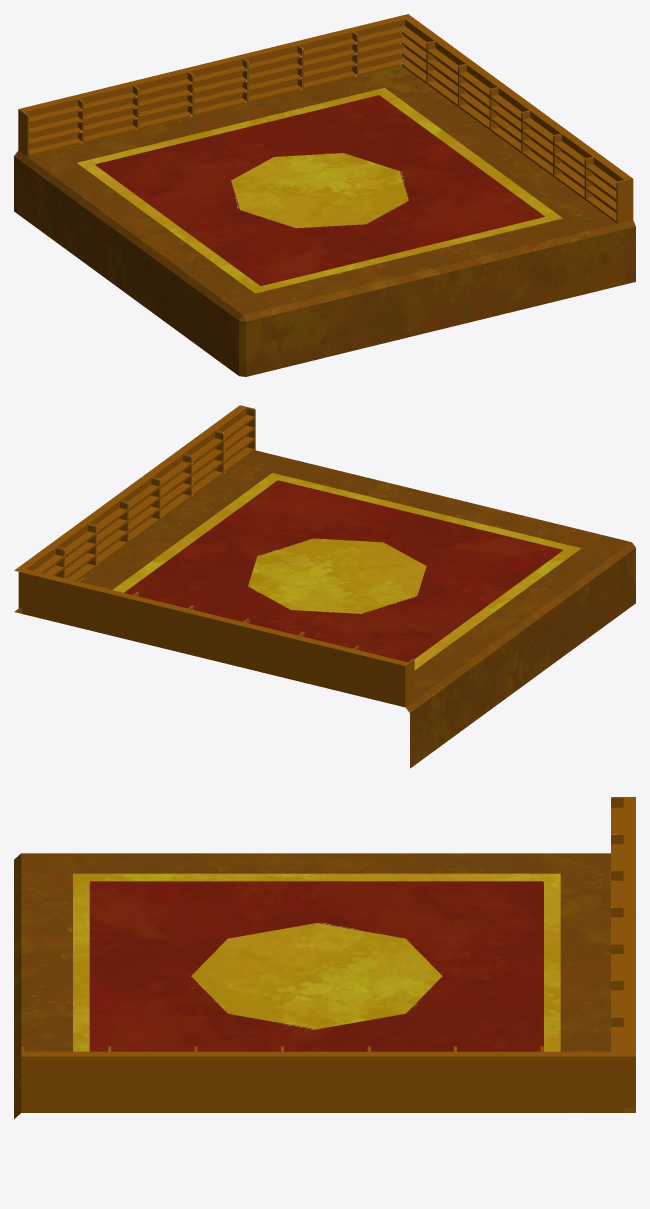
File: lvl_5-cnk_2.obj
The picture shows the model from 3 angles, top to bottom: view 1: azimuth 30°, elevation 25°; view 2: azimuth 150°, elevation 25°; view 3: azimuth 270°, elevation 25°; orthographic projection. The views are drawn at different scales.
Visible parts, largest first — view 1: Cube.065, Plane.007, Cube.069, Cube.072; view 2: Plane.007, Cube.065, Cube.069, Cube.072; view 3: Plane.007, Cube.072, Cube.065, Cube.069.
Part boxes in pixels (x1,y1,x2,y2): Cube.065: [14, 65, 635, 376]; Plane.007: [77, 87, 562, 293]; Cube.069: [18, 16, 404, 156]; Cube.072: [401, 17, 633, 223]; Plane.007: [112, 473, 580, 669]; Cube.065: [14, 450, 635, 768]; Cube.069: [22, 569, 414, 707]; Cube.072: [18, 405, 255, 609]; Plane.007: [73, 873, 560, 1051]; Cube.072: [21, 1046, 623, 1112]; Cube.065: [14, 853, 635, 1118]; Cube.069: [611, 797, 635, 1107].
Size of the model in its own units: 100 by 24.56 by 100.
Materials: 1 (1 with a texture image).
